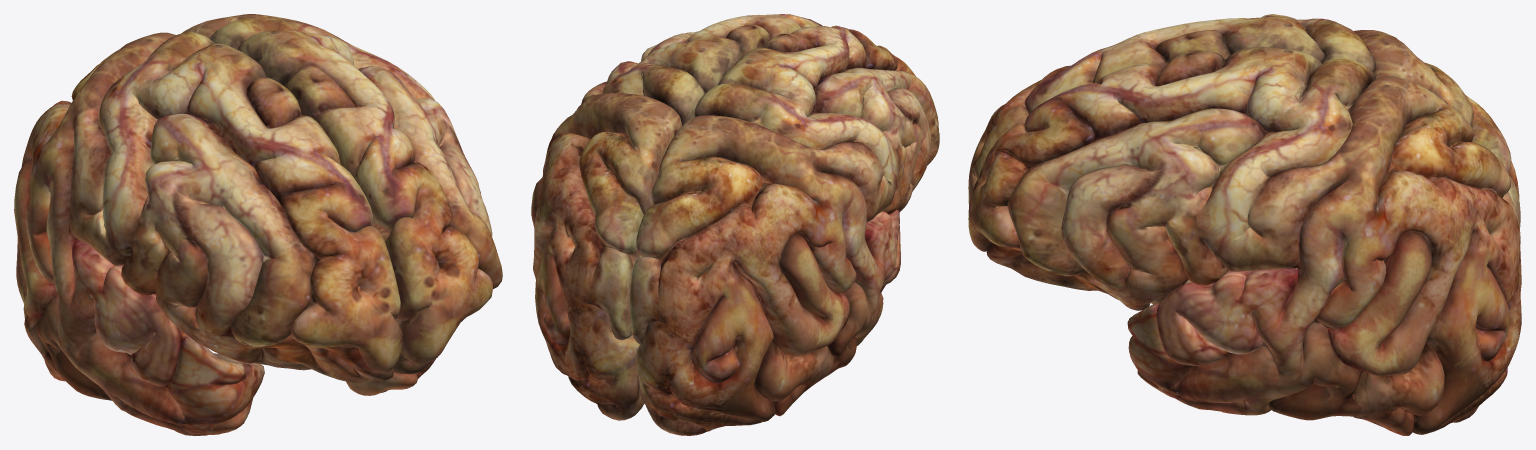
The model's file is Brain.FBX.
The picture shows the model from 3 angles, left to right: view 1: azimuth 30°, elevation 25°; view 2: azimuth 150°, elevation 25°; view 3: azimuth 270°, elevation 25°; orthographic projection. The views are drawn at different scales.
Parts seen in each view (by area): view 1: Brain_V4; view 2: Brain_V4; view 3: Brain_V4.
Part boxes in pixels (x1,y1,x2,y2): Brain_V4: [14, 14, 502, 435]; Brain_V4: [531, 14, 939, 435]; Brain_V4: [968, 14, 1521, 435].
Size of the model in its own units: 46.71 by 45.62 by 63.58.
